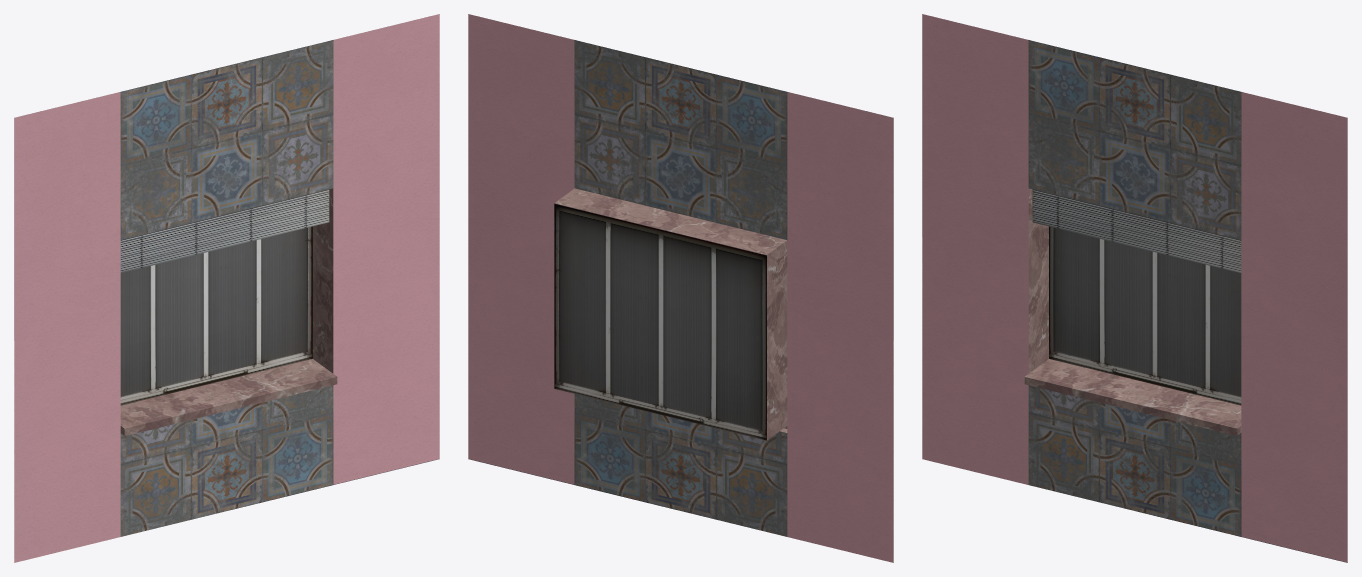
File: Building A Window A2.fbx
3 renders of one model, left to right at view 1: azimuth 30°, elevation 25°; view 2: azimuth 150°, elevation 25°; view 3: azimuth 330°, elevation 25°, orthographic.
Visible parts, largest first — view 1: Building A Window A2 (2, Baked); view 2: Building A Window A2 (2, Baked); view 3: Building A Window A2 (2, Baked).
Boxes of the visible parts, bbox=[...] form: Building A Window A2 (2, Baked): bbox=[14, 14, 439, 562]; Building A Window A2 (2, Baked): bbox=[468, 14, 893, 562]; Building A Window A2 (2, Baked): bbox=[922, 14, 1347, 562].
Size of the model in its own units: 300 by 300 by 30.
